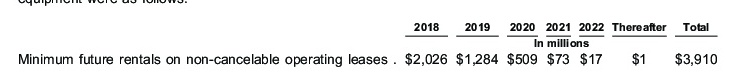table: (0, 0, 737, 81)
